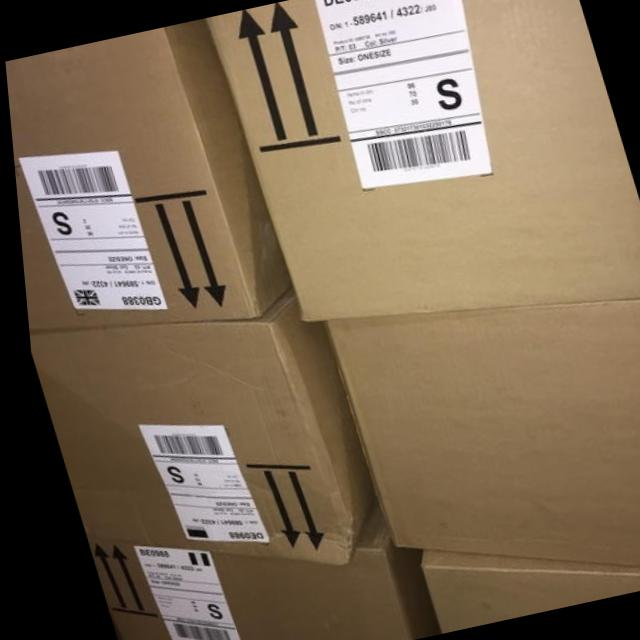box: (206, 0, 640, 322), (23, 286, 367, 565), (4, 19, 288, 331), (319, 297, 640, 569), (77, 503, 430, 640), (411, 550, 640, 632)
